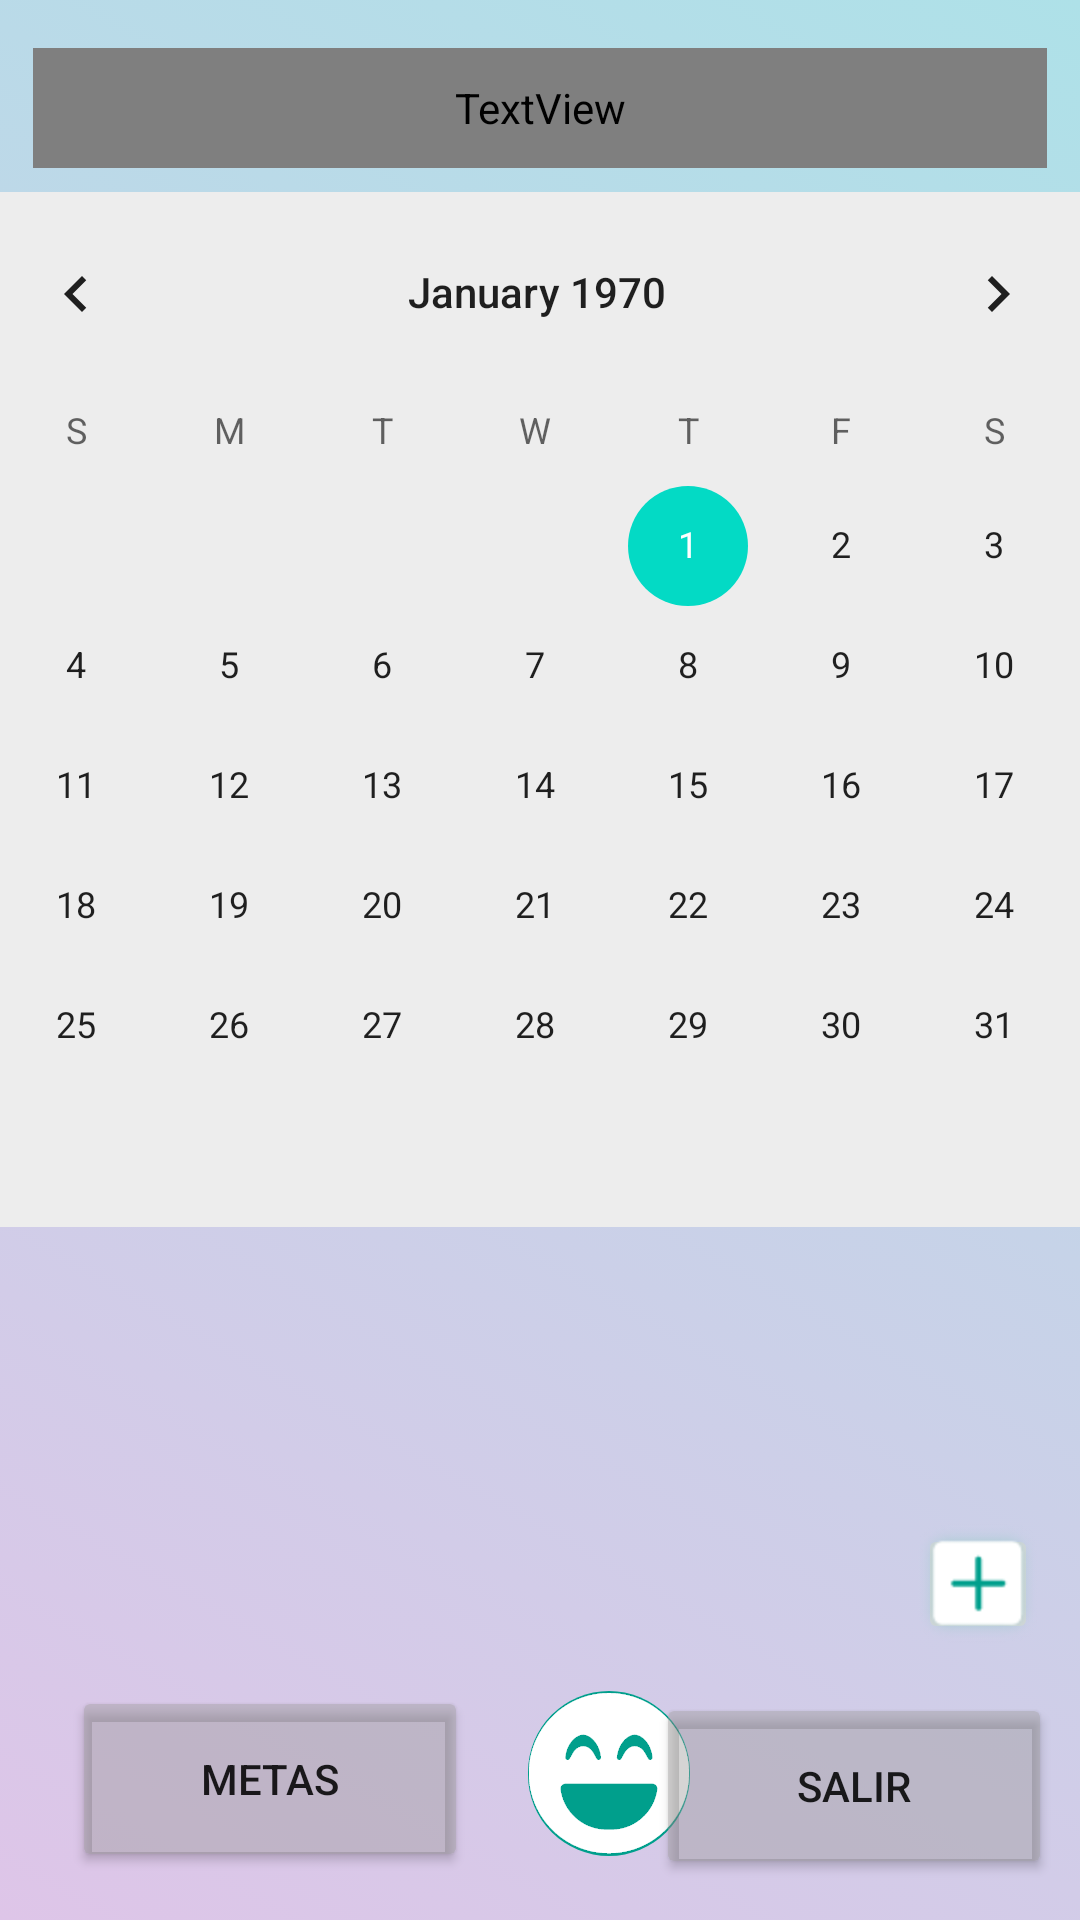

Point at icon controls on the screen. Image size 1080 × 1920, points as (x,y).
laugh beam: (609,1773)
